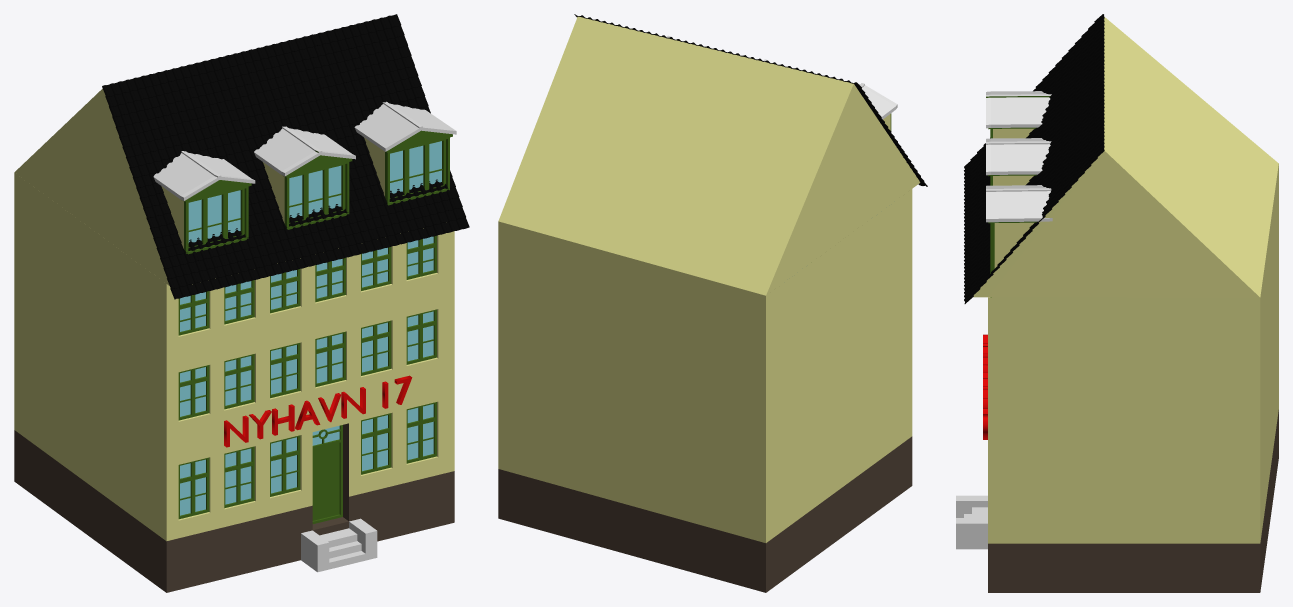
File: nyhavn2.fbx
3 views of the same model, side by side, from view 1: azimuth 30°, elevation 25°; view 2: azimuth 150°, elevation 25°; view 3: azimuth 270°, elevation 25° (orthographic). The views are drawn at different scales.
Visible parts, largest first — view 1: Cube.028; view 2: Cube.028; view 3: Cube.028.
Boxes of the visible parts, x1=… form: Cube.028: x1=14, y1=14, x2=469, y2=592; Cube.028: x1=498, y1=14, x2=927, y2=592; Cube.028: x1=956, y1=14, x2=1278, y2=592.
Size of the model in its own units: 824 by 1240 by 818.
